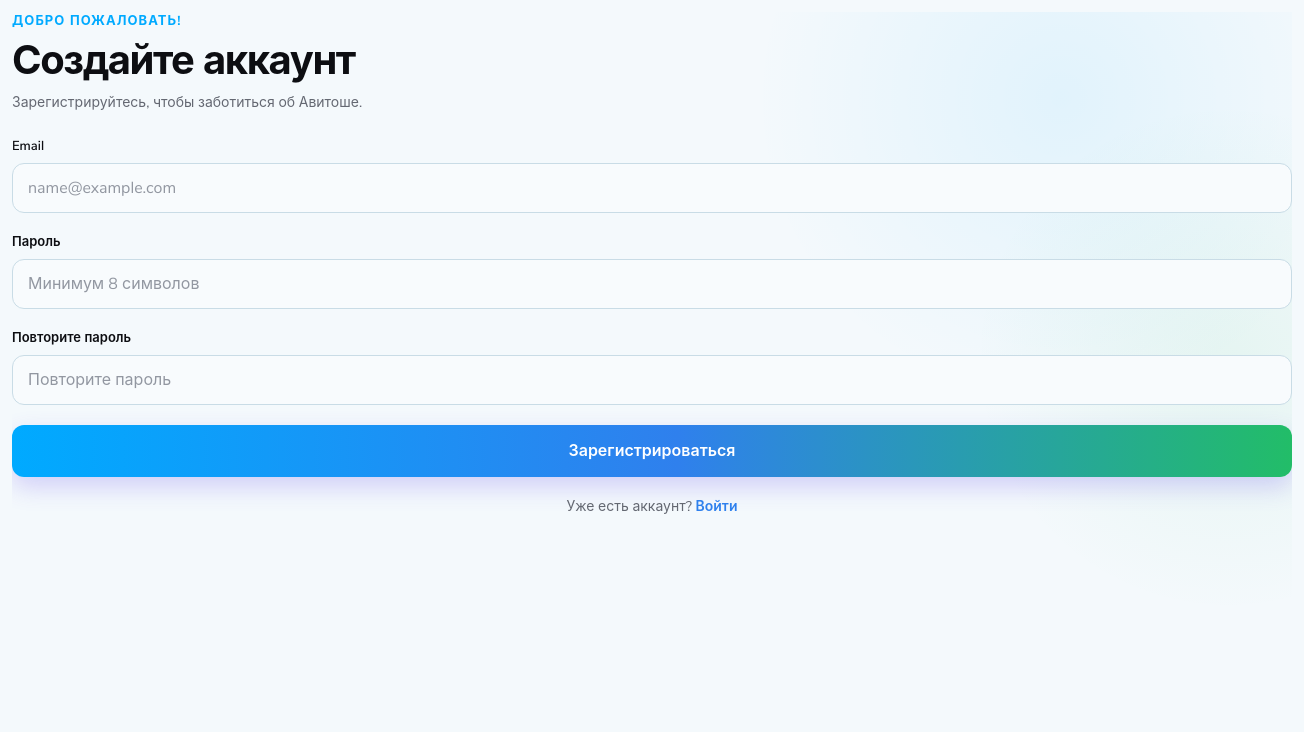
Test case: RegisterForm › does not submit mismatched passwords
In the field labelled "Email": (652, 188) [12,163,1292,213], type "user@example.com"
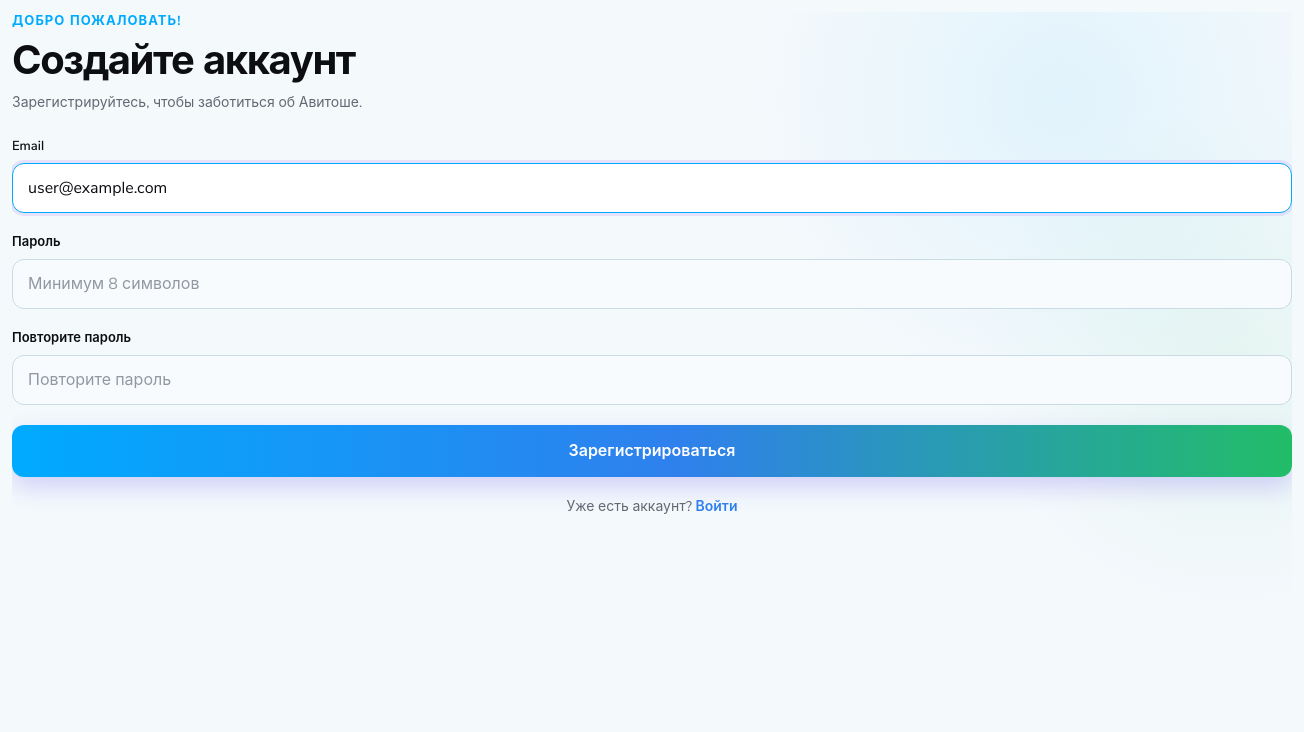
In the password field labelled "Пароль": (652, 284) [12,259,1292,309], type "password123"
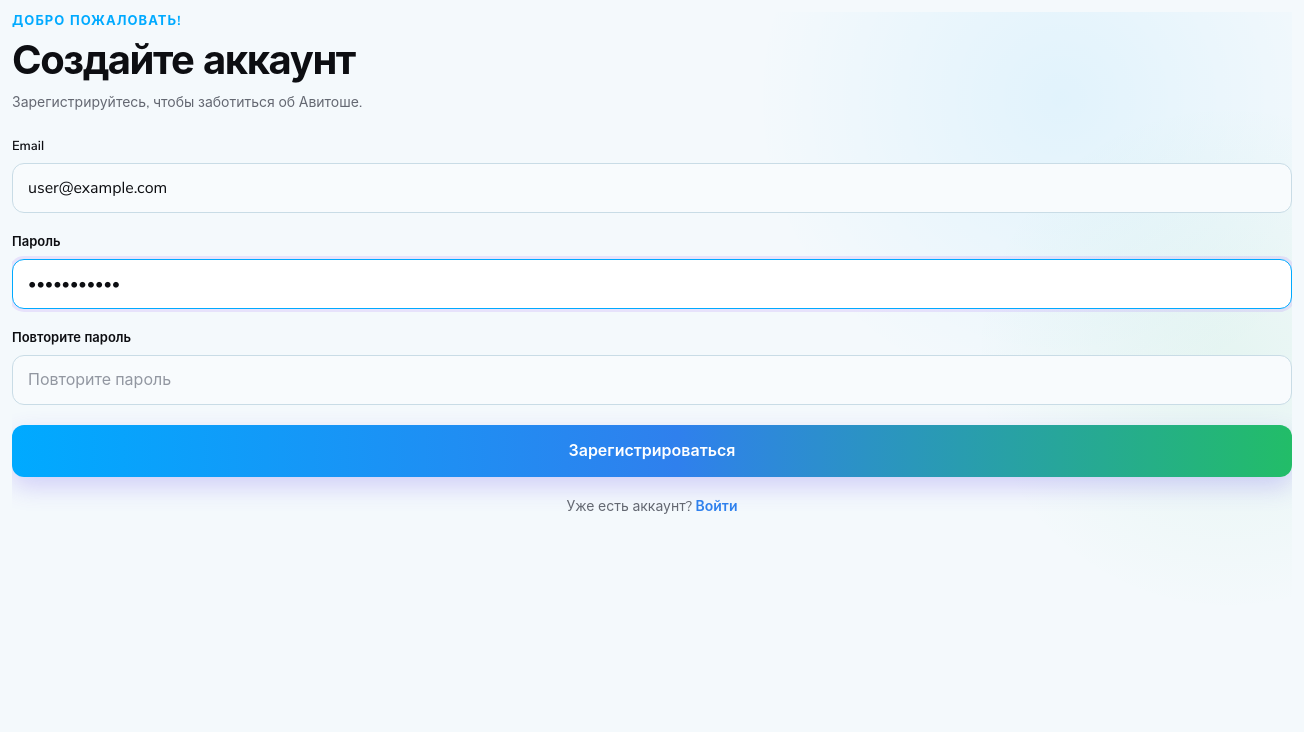
In the password field labelled "Повторите пароль": (652, 380) [12,355,1292,405], type "different123"
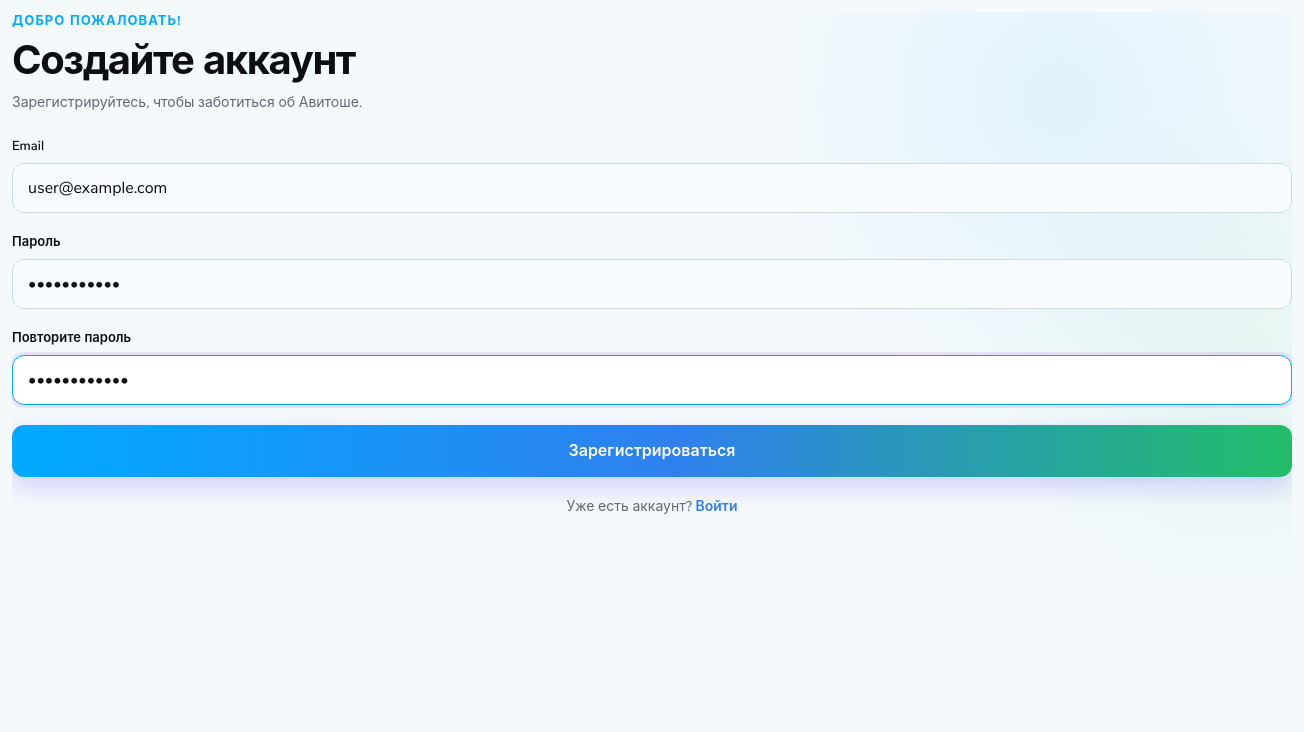
Click the button "Зарегистрироваться": click(652, 451) [12,425,1292,477]
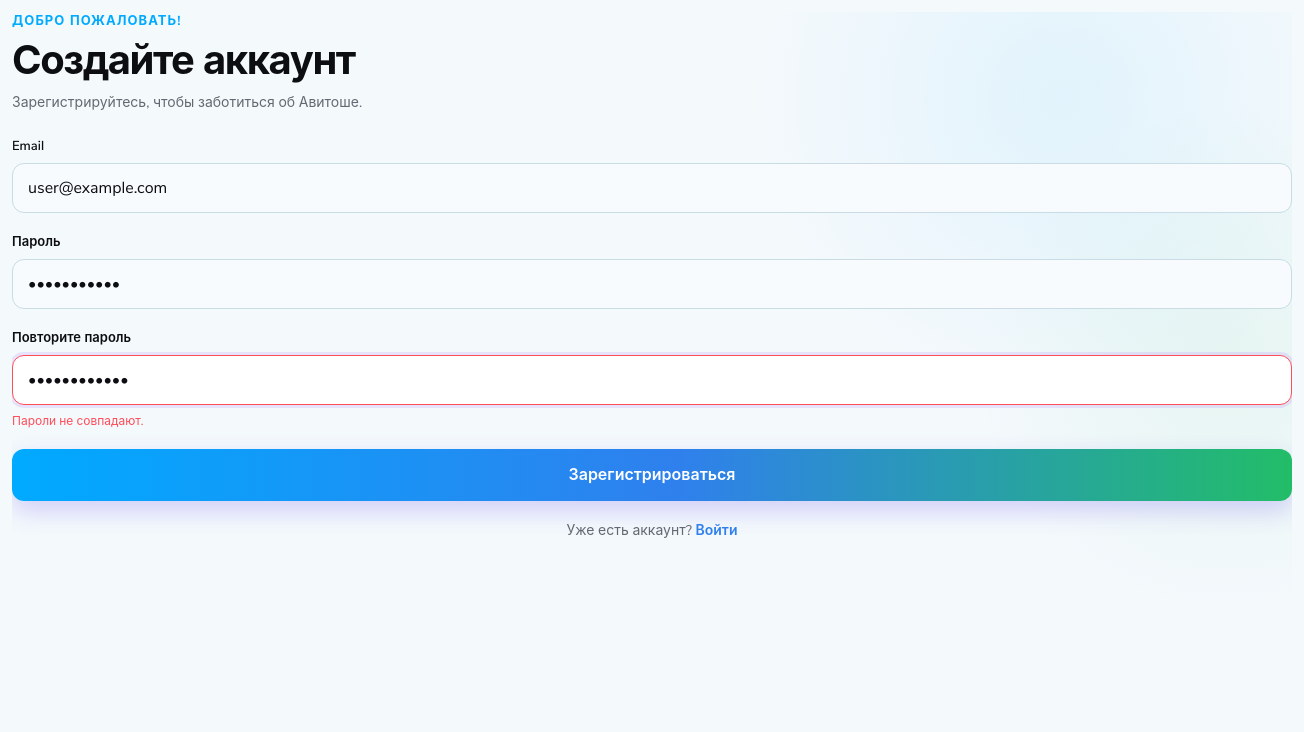
Now the text "Пароли не совпадают." is shown, box [12,413,144,429]
